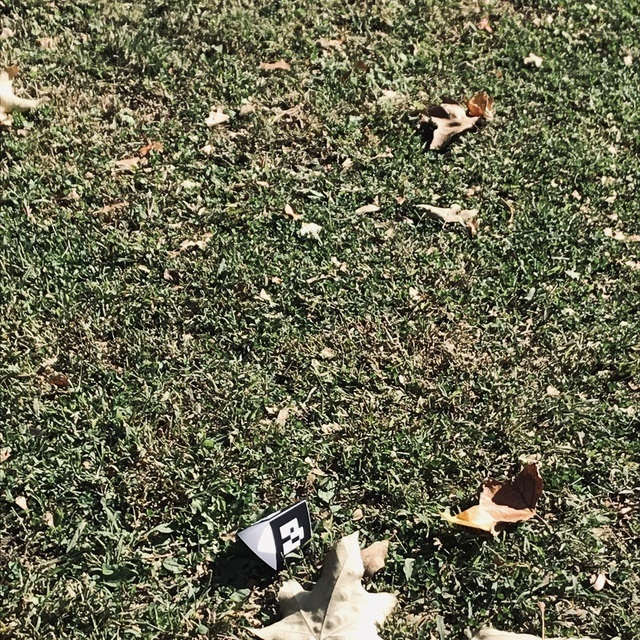ARTag: (236, 498, 313, 573)
